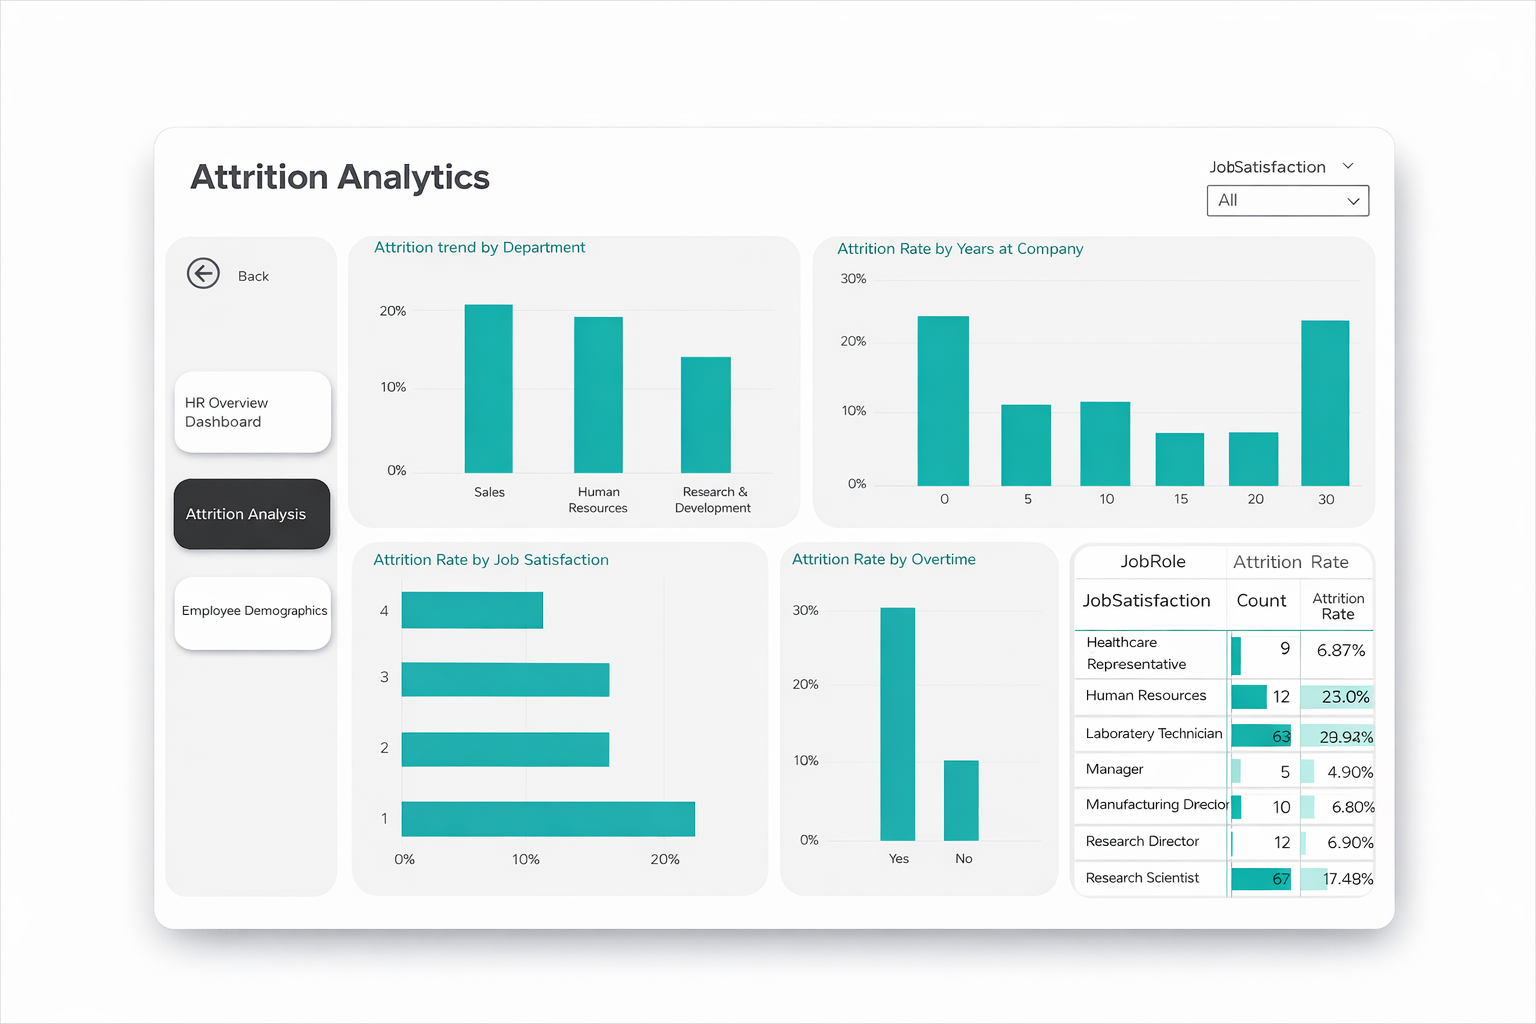

The page's visual inventory and layout, read from the dashboard file:
{"tool":"powerbi","page":{"name":"Attrition Analysis","canvas":[1280,720],"ordinal":1},"visuals":[{"type":"shape","box":[898.6,388.6,362.9,322.9],"z":0},{"type":"shape","box":[210,388.6,677.1,322.9],"z":1000},{"type":"shape","box":[680,88.6,585.7,287.1],"z":2000},{"type":"shape","box":[210,88.6,455.7,287.1],"z":3000},{"type":"shape","box":[0,88.6,192.9,572.9],"z":4000},{"type":"clusteredColumnChart","title":"Attrition trend by Department","fields":{"Y":["Clean_HR_IBM_dataset.Attrition Rate"],"Category":["Clean_HR_IBM_dataset.Department"]},"box":[235.7,88.6,404.3,287.1],"z":5000},{"type":"barChart","title":"Attrition Rate by Job  Satisfaction","fields":{"Category":["Clean_HR_IBM_dataset.JobSatisfaction"],"Y":["Clean_HR_IBM_dataset.Attrition Rate"]},"box":[235.7,398.6,347.1,312.9],"z":6000},{"type":"columnChart","title":"Attrition Rate by Overtime ","fields":{"Category":["Clean_HR_IBM_dataset.OverTime"],"Y":["Clean_HR_IBM_dataset.Attrition Rate"]},"box":[615.7,388.6,235.7,322.9],"z":7000},{"type":"pivotTable","fields":{"Rows":["Clean_HR_IBM_dataset.JobRole"],"Values":["Clean_HR_IBM_dataset.Attrition Count","Clean_HR_IBM_dataset.Attrition Rate"]},"box":[911.4,388.6,338.6,308.6],"z":8000},{"type":"pageNavigator","box":[12.9,218.6,170,314.3],"z":9000},{"type":"actionButton","box":[12.9,117.1,170,40],"z":10000},{"type":"textbox","title":"Attrition Analytics","box":[13.3,11.7,483.3,38.3],"z":11000},{"type":"columnChart","title":"Attrition Rate by Years at Company ","fields":{"Y":["Clean_HR_IBM_dataset.Attrition Rate"],"Category":["Clean_HR_IBM_dataset.YearsAtCompany (bins) 2"]},"box":[702.9,88.6,547.1,287.1],"z":12000},{"type":"slicer","fields":{"Values":["Clean_HR_IBM_dataset.JobSatisfaction"]},"box":[1044.3,11.4,170,58.6],"z":13000}]}

Visuals, with their boxes on the page's 1280x720 design canvas (x1, y1, x2, y2). These are canvas units, not pixel positions in the 1536x1024 screenshot, which may show the page scaled, cropped or inside an application window:
shape: (x1=899, y1=389, x2=1262, y2=712)
shape: (x1=210, y1=389, x2=887, y2=712)
shape: (x1=680, y1=89, x2=1266, y2=376)
shape: (x1=210, y1=89, x2=666, y2=376)
shape: (x1=0, y1=89, x2=193, y2=662)
"Attrition trend by Department" clusteredColumnChart: (x1=236, y1=89, x2=640, y2=376)
"Attrition Rate by Job  Satisfaction" barChart: (x1=236, y1=399, x2=583, y2=712)
"Attrition Rate by Overtime " columnChart: (x1=616, y1=389, x2=851, y2=712)
pivotTable - Clean_HR_IBM_dataset.JobRole x Clean_HR_IBM_dataset.Attrition Count: (x1=911, y1=389, x2=1250, y2=697)
pageNavigator: (x1=13, y1=219, x2=183, y2=533)
actionButton: (x1=13, y1=117, x2=183, y2=157)
"Attrition Analytics" textbox: (x1=13, y1=12, x2=497, y2=50)
"Attrition Rate by Years at Company " columnChart: (x1=703, y1=89, x2=1250, y2=376)
slicer - Clean_HR_IBM_dataset.JobSatisfaction: (x1=1044, y1=11, x2=1214, y2=70)
